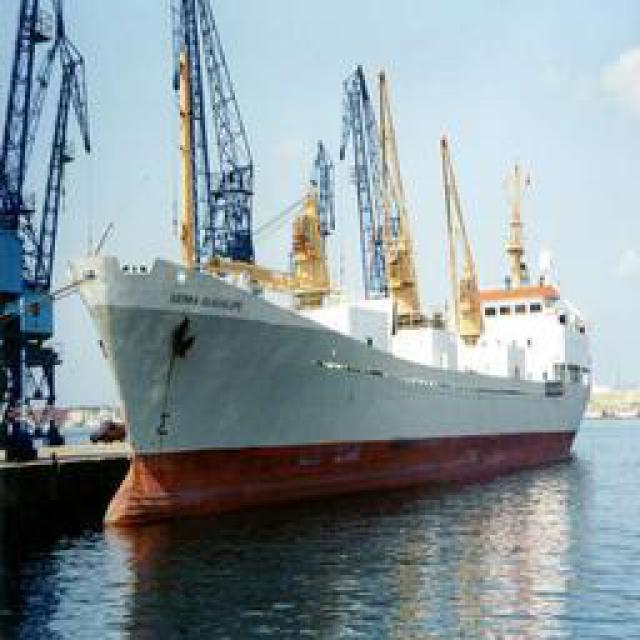Ship: (67, 35, 597, 508)
